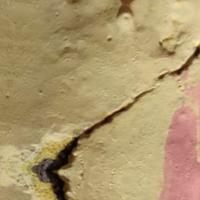crack: (38, 48, 199, 199)
